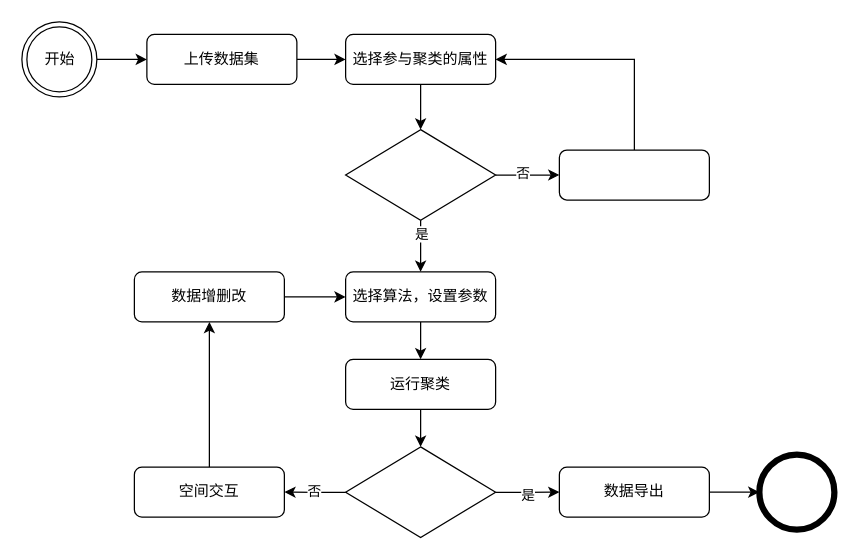
Some shapes in this 859 by 560 pixel diagram are drawn without their labels. Here are the shapes that lost their labels. From the top down, the centre of each, then its label:
At pixel 420 174: "属性选择完毕？".
At pixel 633 174: "属性探索".
At pixel 420 492: "满意聚类结果".
At pixel 796 491: "结束".
